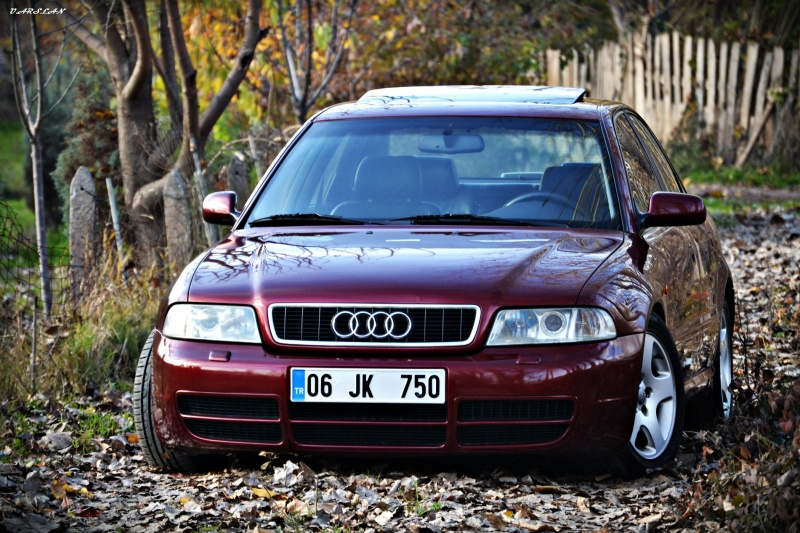audi: (323, 310, 417, 341)
